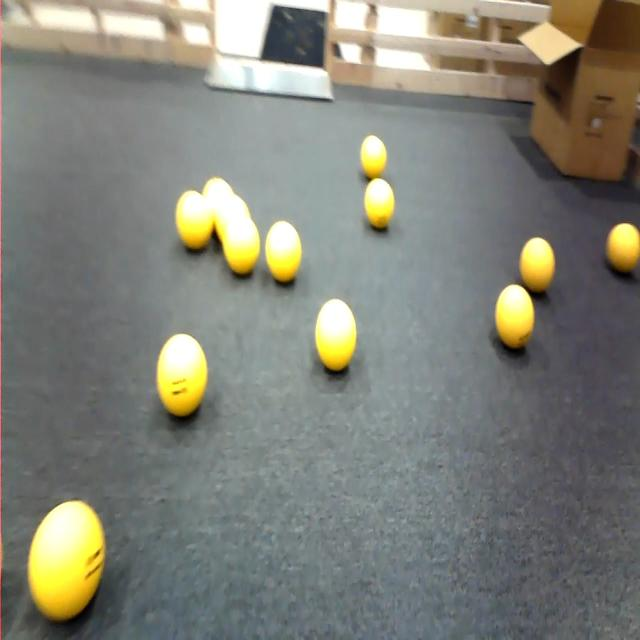fuel: (28, 501, 105, 622), (157, 335, 207, 417), (315, 299, 356, 371), (495, 285, 534, 349), (223, 215, 261, 276), (265, 221, 301, 283), (176, 191, 213, 250), (520, 238, 555, 293), (216, 193, 250, 244), (202, 177, 233, 231), (607, 224, 639, 273), (364, 178, 394, 229), (361, 136, 386, 179)
